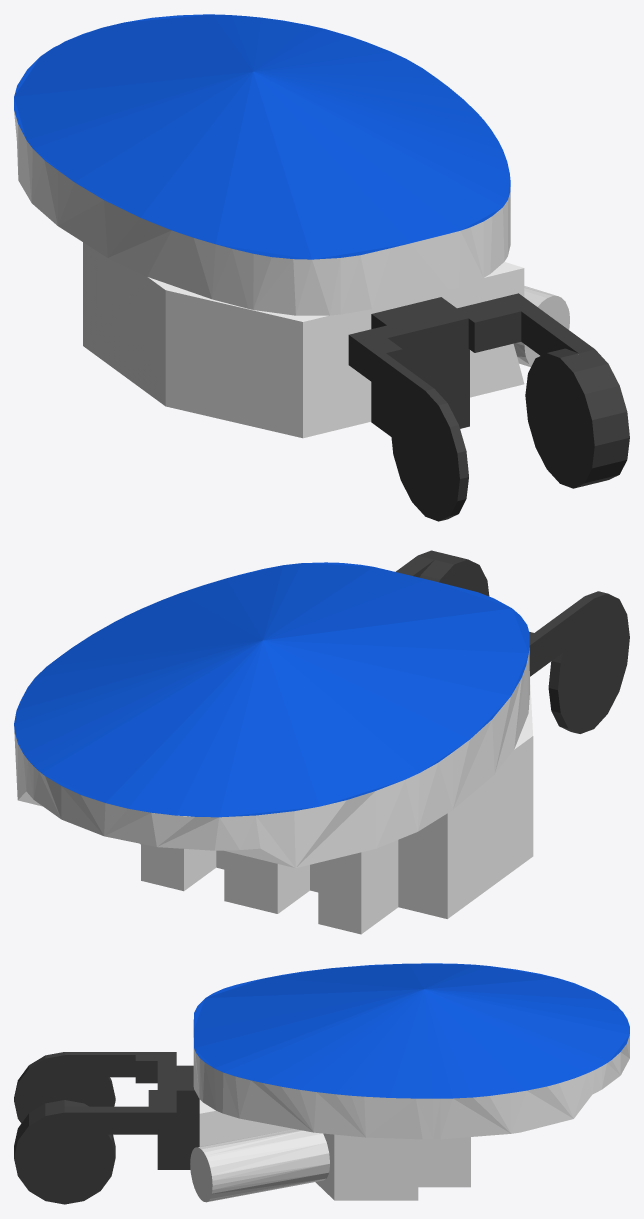
The model's file is L_WRIST_R_LINK_mesh.dae.
3 views of the same model, one above another, from view 1: azimuth 30°, elevation 25°; view 2: azimuth 150°, elevation 25°; view 3: azimuth 270°, elevation 25° (orthographic). The views are drawn at different scales.
Visible parts, largest first — view 1: L_WRIST_R_LINK (×4); view 2: L_WRIST_R_LINK (×3); view 3: L_WRIST_R_LINK (×4).
Part boxes in pixels (x1,y1,x2,y2): L_WRIST_R_LINK (×4): (14,14,629,521); L_WRIST_R_LINK (×3): (14,550,629,934); L_WRIST_R_LINK (×4): (14,963,629,1204).
Size of the model in its own units: 0.0914 by 0.057 by 0.1759.
